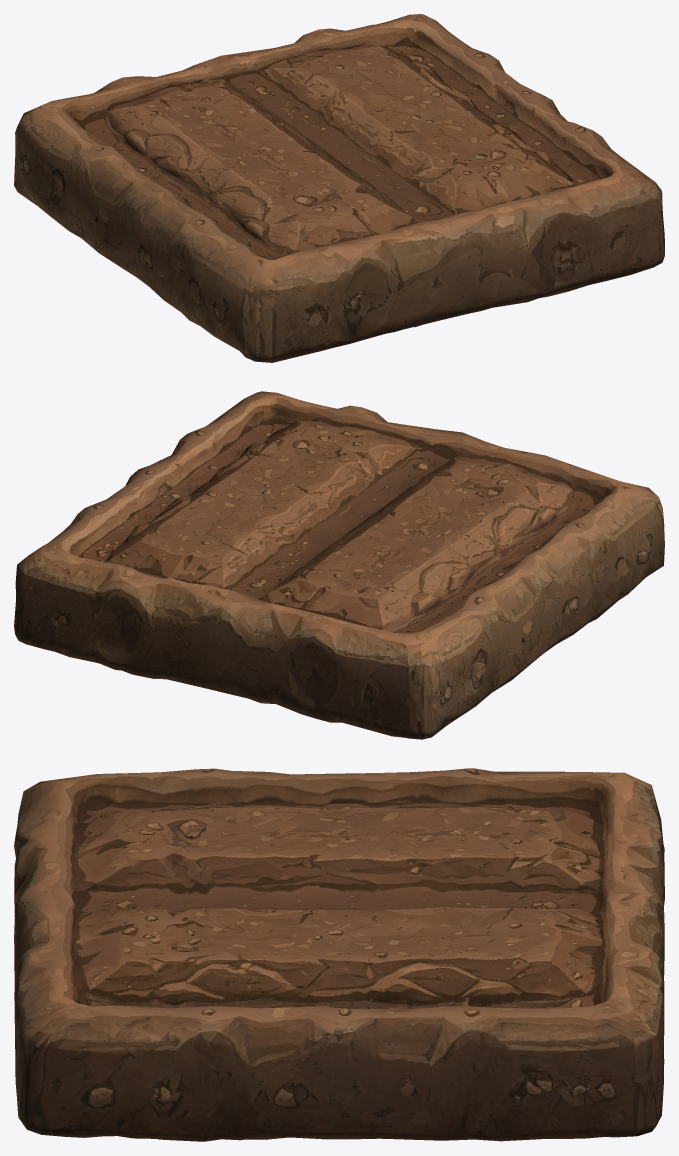
The model's file is FarmPlot_Ridged.fbx.
3 renders of one model, top to bottom at view 1: azimuth 30°, elevation 25°; view 2: azimuth 150°, elevation 25°; view 3: azimuth 270°, elevation 25°, orthographic. The views are drawn at different scales.
Parts seen in each view (by area): view 1: texture_mapping; view 2: texture_mapping; view 3: texture_mapping.
Part boxes in pixels (x1,y1,x2,y2): texture_mapping: [14, 14, 664, 362]; texture_mapping: [14, 391, 664, 739]; texture_mapping: [14, 768, 664, 1141].
Size of the model in its own units: 0.9946 by 1 by 0.2621.
Materials: 1 (1 with a texture image).
